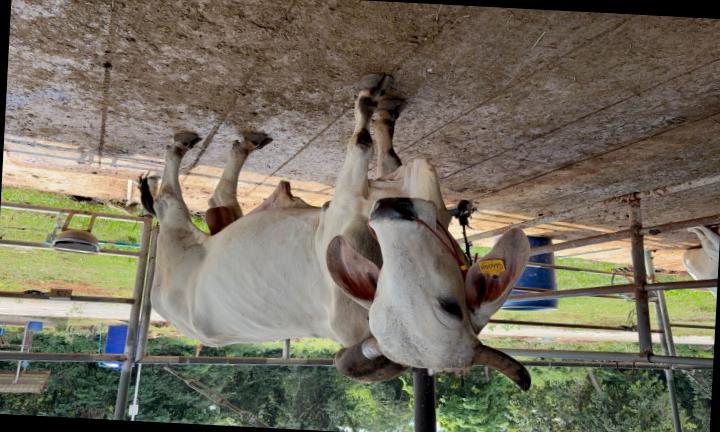Brahman: (141, 74, 530, 390)
